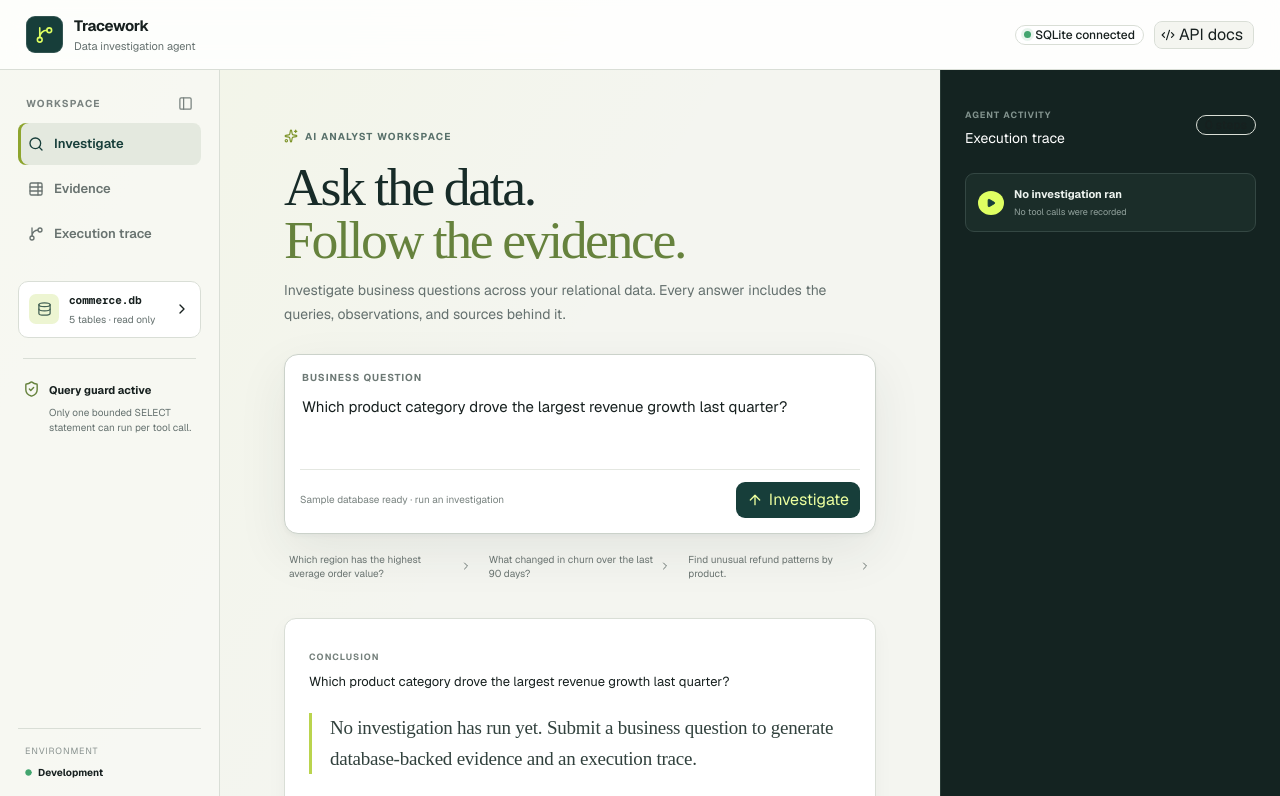
it: a failed investigation reports the failure and shows no evidence rows
Click the button "What changed in churn over the last 90 days?". click: (580, 567)
box: [484,546,676,588]
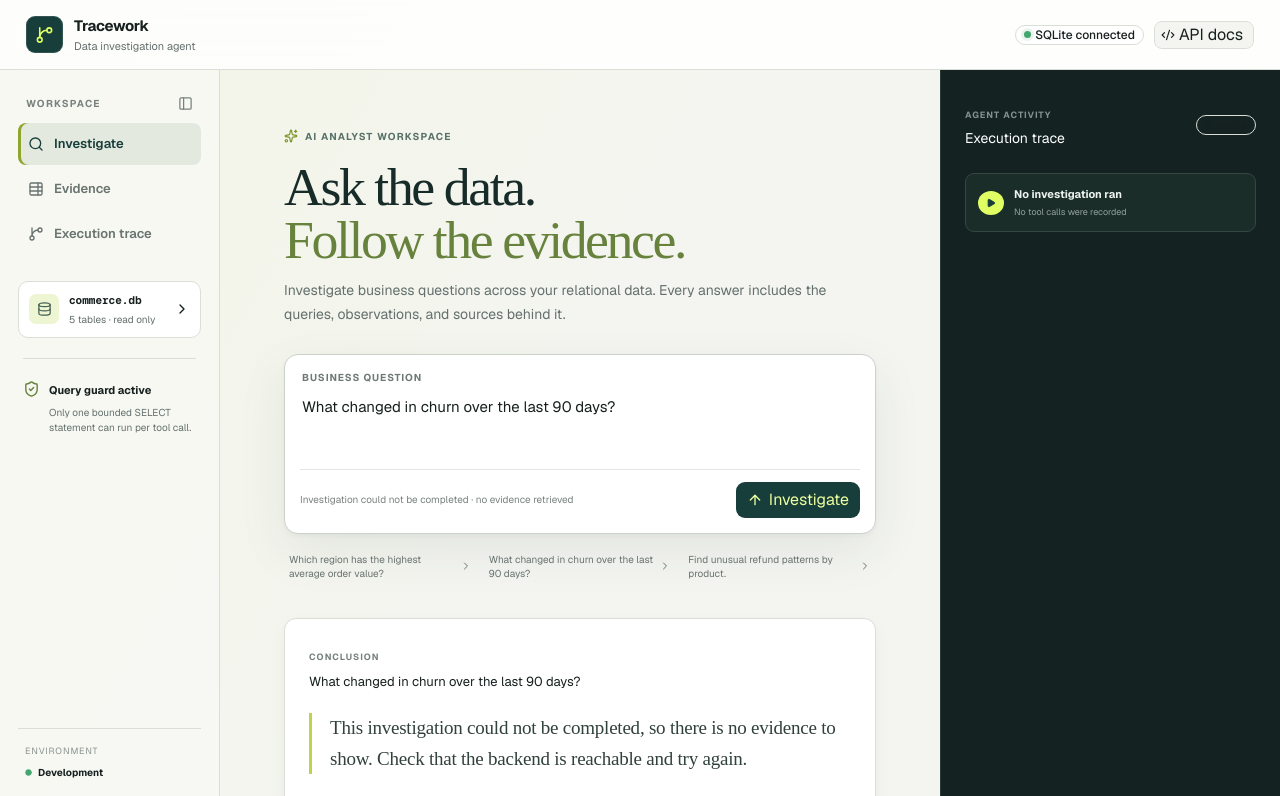
expect the text "no evidence to show" is shown: met, box [330,717,836,768]
expect the text "Investigation could not be completed · no evidence retrieved" is shown: met, box [300,492,574,507]
